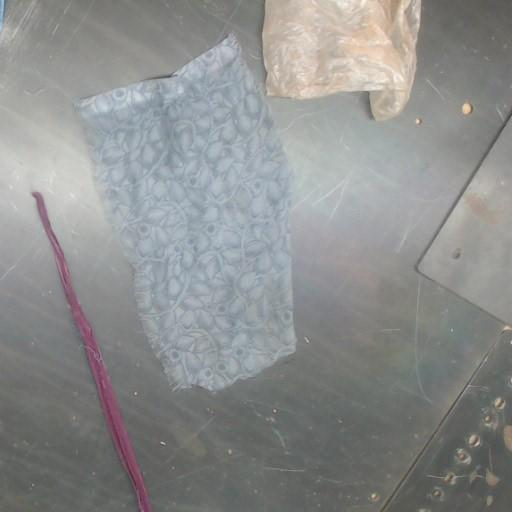cloth: (77, 37, 295, 390), (32, 191, 151, 511), (262, 0, 421, 120)
conveyor belt: (0, 0, 511, 511)
